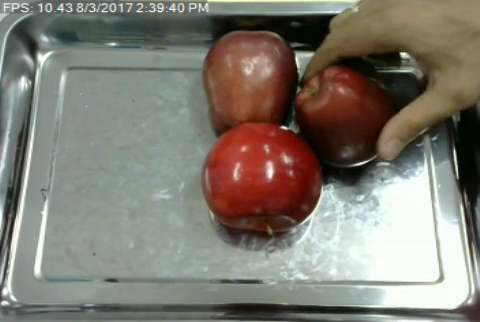Apple: (196, 117, 327, 238), (288, 59, 394, 169), (198, 27, 301, 136)
